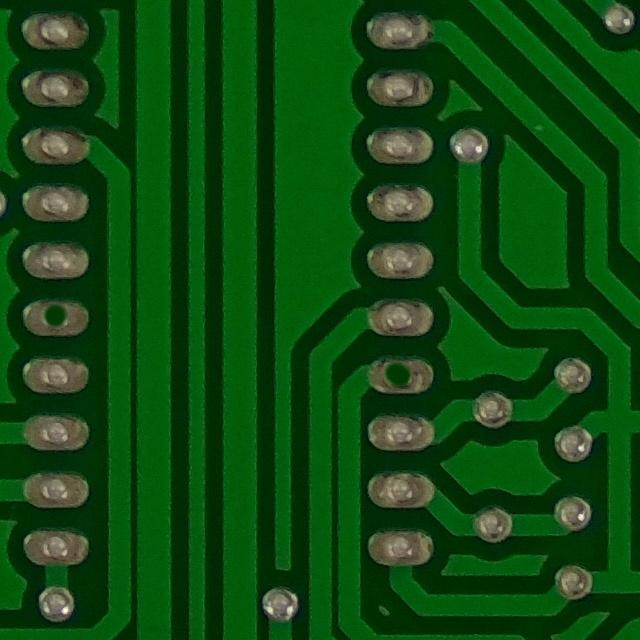missing_hole: (23, 287, 89, 351), (372, 348, 433, 402)
